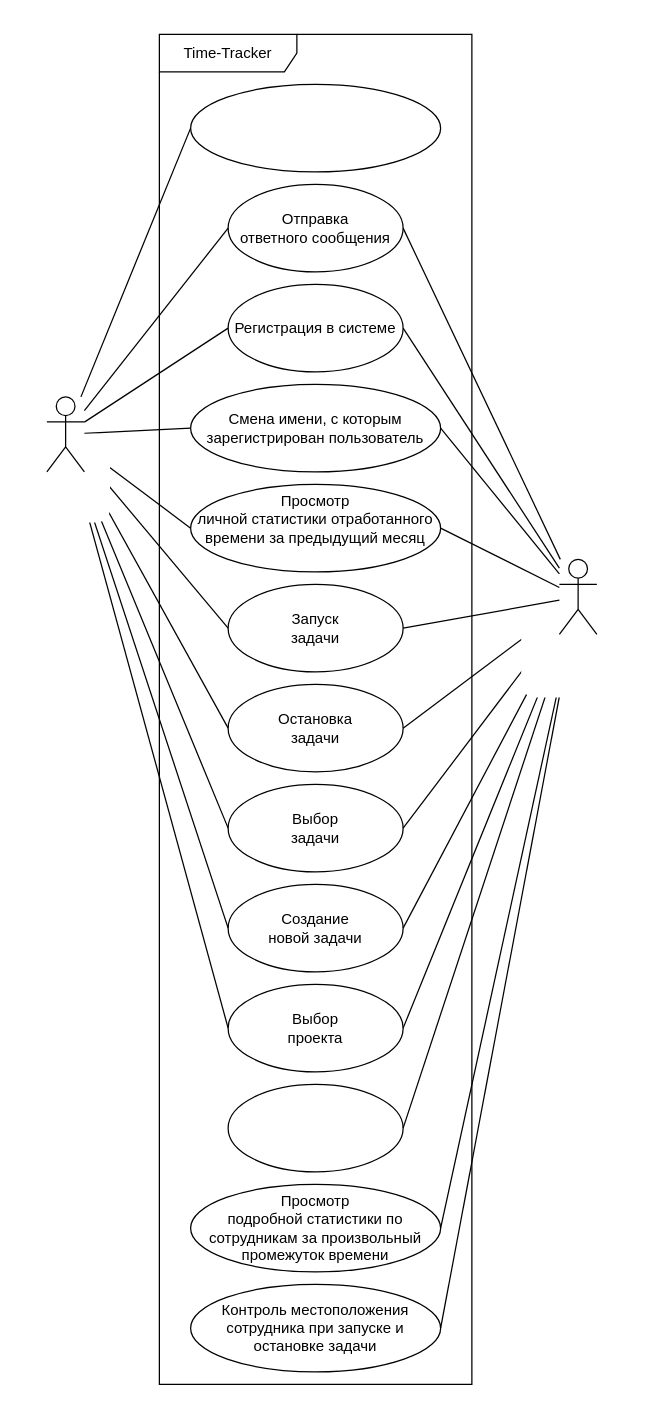
Some shapes in this 656 by 1419 pixel diagram are drawn without their labels. Here are the shapes that lost their labels. From the top down, the centre of each, then its label:
At pixel 315 127: "Отправка сообщения представителю руководящего состава".
At pixel 65 434: "Сотрудник компании".
At pixel 577 596: "Представитель руководящего состава".
At pixel 315 1127: "Создание нового проекта".
